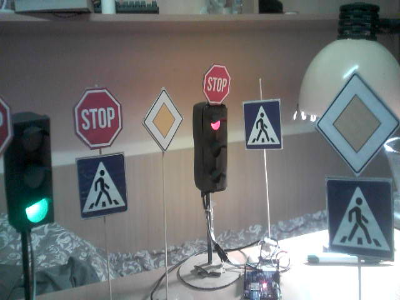crosswalk: (326, 179, 394, 260), (76, 157, 128, 212), (244, 101, 282, 151)
priority_road: (321, 78, 396, 163), (145, 89, 182, 151)
stop: (76, 93, 120, 147), (204, 66, 230, 105)
trafficlight_green: (14, 123, 52, 224)
trafficlight_red: (203, 112, 228, 190)
